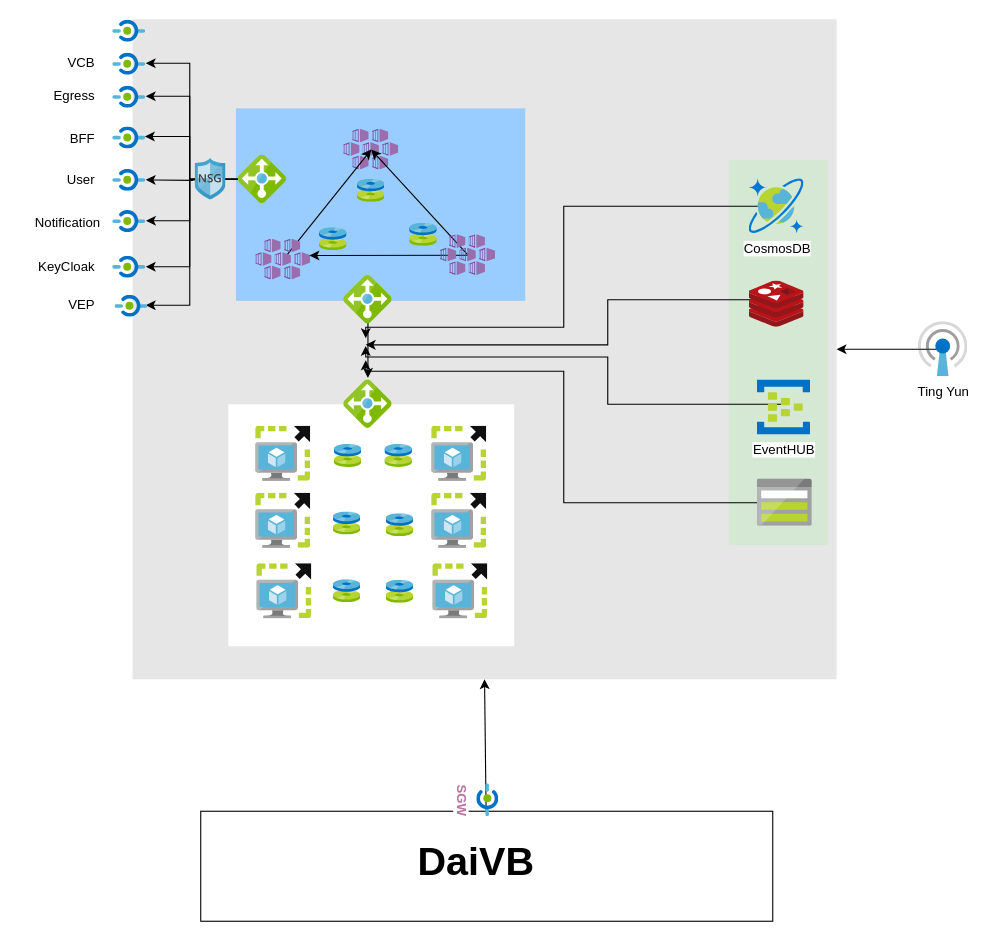
The diagram is 988 pixels wide and 941 high, and some of its shapes have lost their labels. Each missing label, with the centre of its shape:
"Redis" belongs at (x=776, y=303).
"Stoage" belongs at (x=784, y=502).
